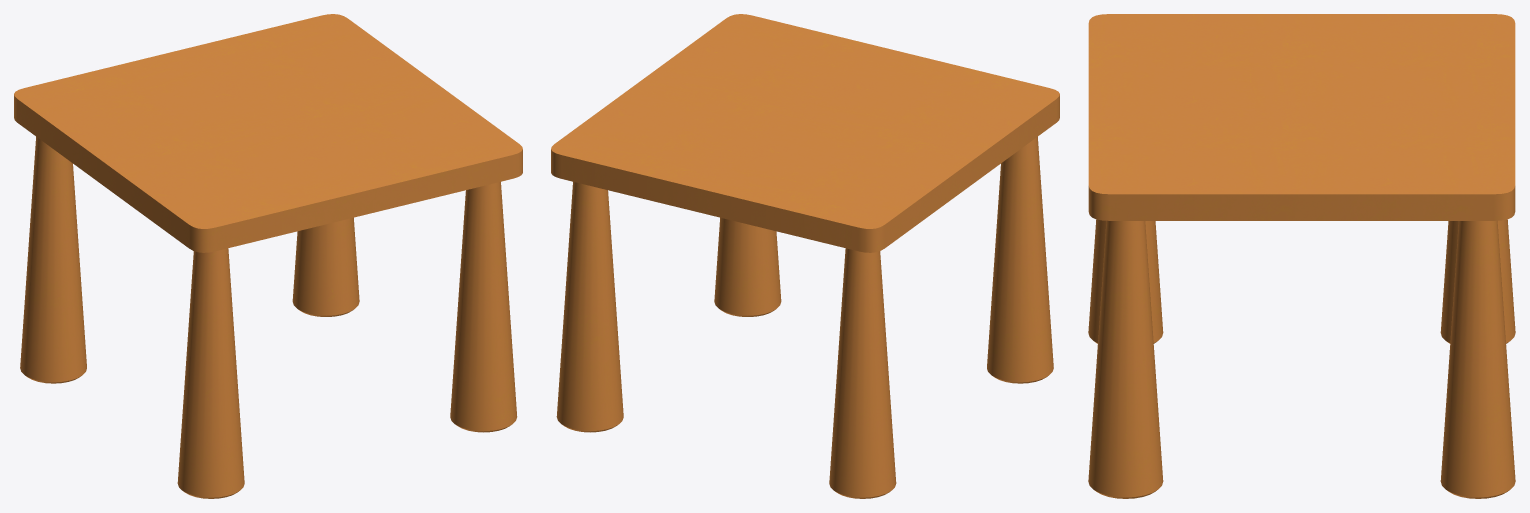
The model's file is table.glb.
3 renders of one model, left to right at view 1: azimuth 30°, elevation 25°; view 2: azimuth 150°, elevation 25°; view 3: azimuth 270°, elevation 25°, orthographic. The views are drawn at different scales.
Parts seen in each view (by area): view 1: Table6; view 2: Table6; view 3: Table6.
Part boxes in pixels (x1,y1,x2,y2): Table6: (14, 14, 522, 498); Table6: (551, 14, 1059, 498); Table6: (1088, 14, 1515, 498).
Size of the model in its own units: 0.5082 by 0.402 by 0.5087.
Materials: 1 (1 with a texture image).
